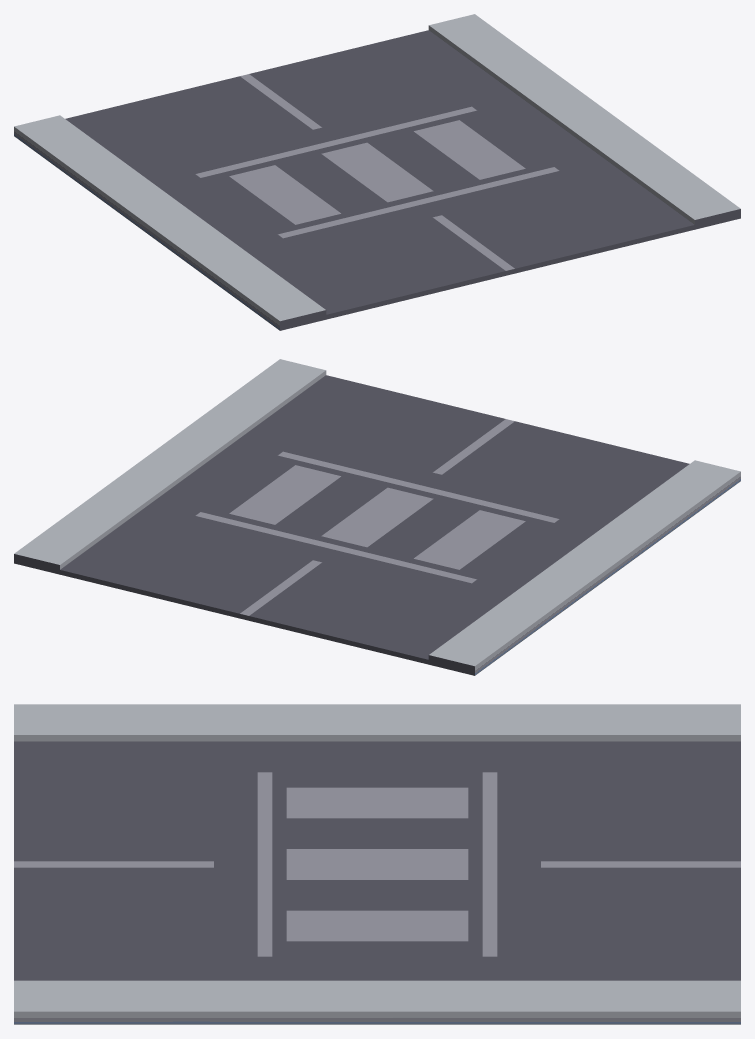
The model's file is road-crosswalk.glb.
3 views of the same model, one above another, from view 1: azimuth 30°, elevation 25°; view 2: azimuth 150°, elevation 25°; view 3: azimuth 270°, elevation 25° (orthographic). The views are drawn at different scales.
Parts seen in each view (by area): view 1: road-crosswalk; view 2: road-crosswalk; view 3: road-crosswalk.
Boxes of the visible parts, left/top/right/bottom form: road-crosswalk: left=14, top=14, right=740, bottom=330; road-crosswalk: left=14, top=359, right=740, bottom=675; road-crosswalk: left=14, top=704, right=740, bottom=1024.
Size of the model in its own units: 1 by 0.02 by 1.
Materials: 1 (1 with a texture image).
